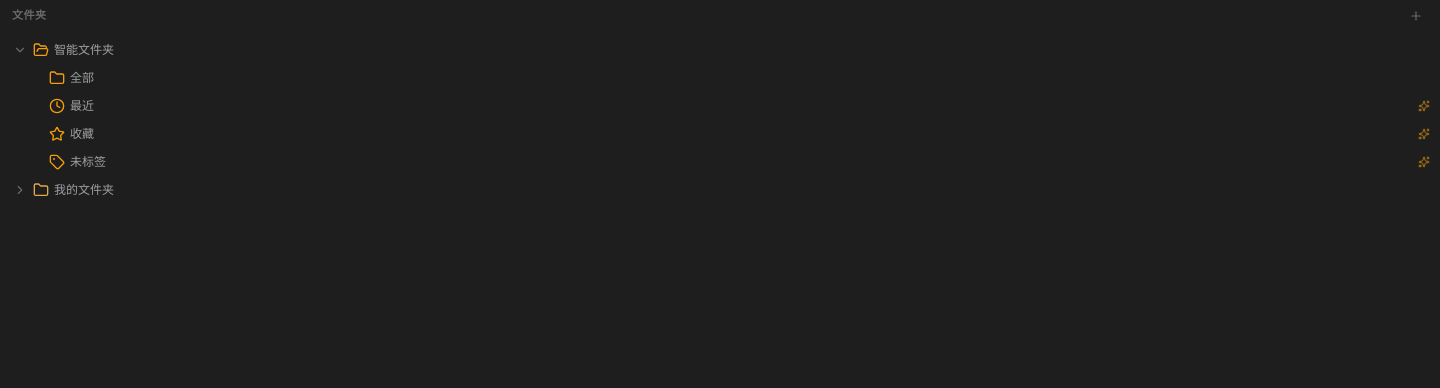
Test: VirtualFolders › 嵌套文件夹 › 右键菜单新建子文件夹，并展开父文件夹
Click the text "我的文件夹": {"x": 84, "y": 190} [54, 182, 114, 197]
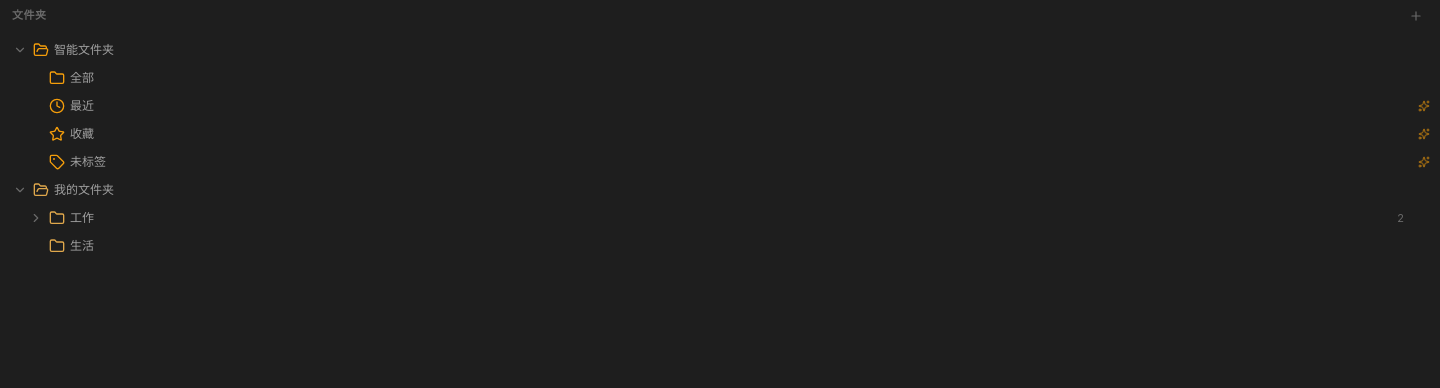
Right-click the text "工作": {"x": 82, "y": 218} [70, 210, 94, 225]
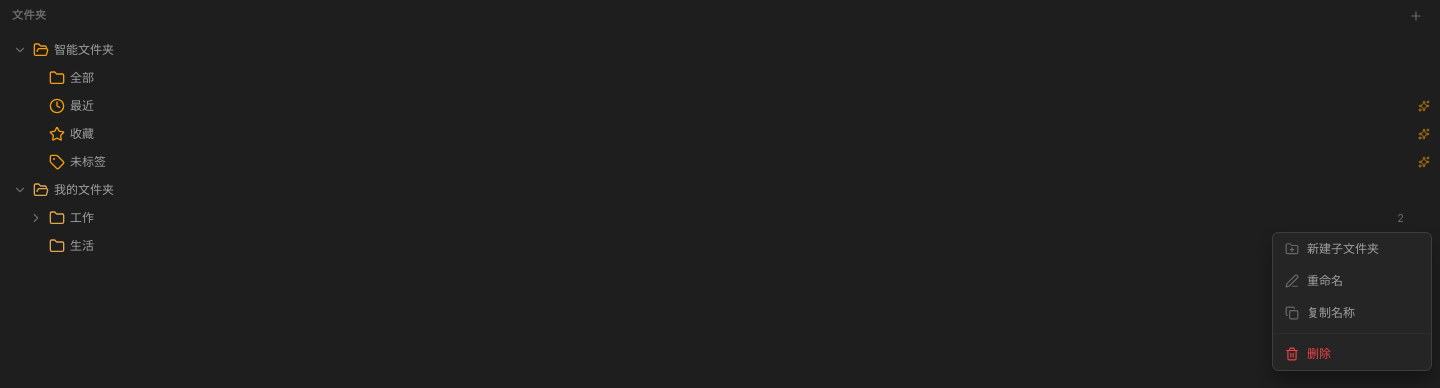
Click the button "新建子文件夹": {"x": 1352, "y": 249} [1273, 233, 1431, 265]
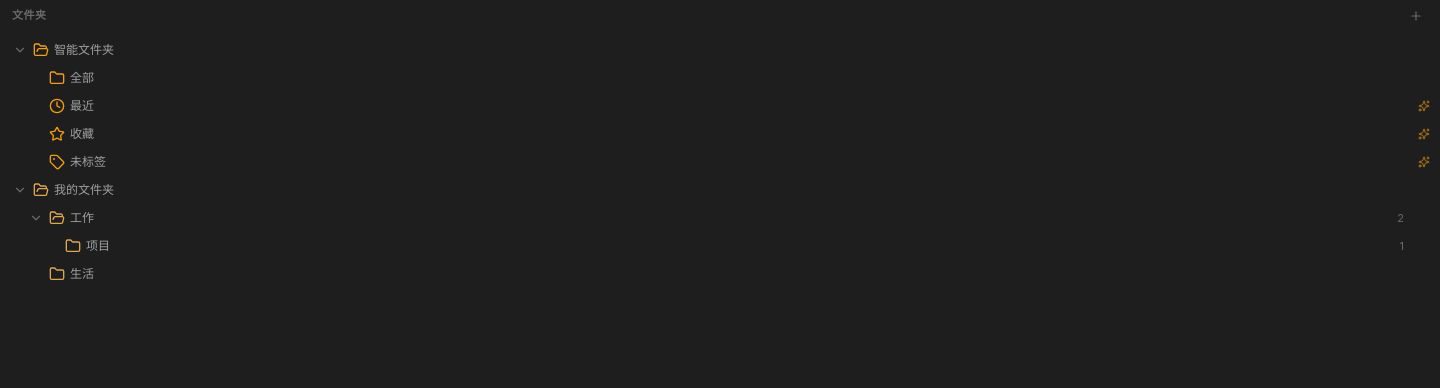
expect the text "项目" is shown: met, box [86, 238, 110, 253]
